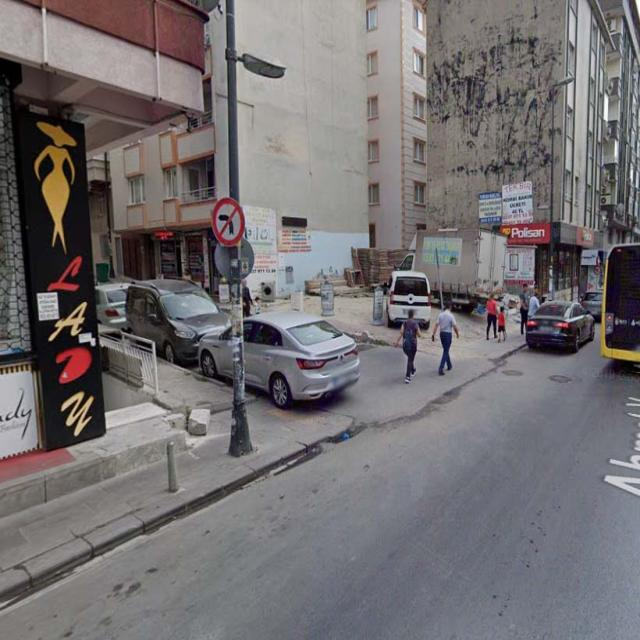soladonulmez: (211, 198, 246, 245)
